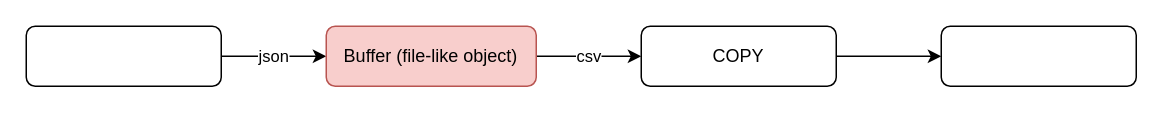
The diagram is 1163 pixels wide and 113 high, and some of its shapes have lost their labels. The shapes that lost their labels are listed below. From the top down, each one's centre as x and y in pixels, then its label:
point 123,55: API
point 1038,55: Database
